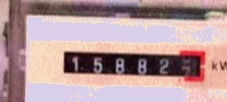1: (70, 54, 81, 73)
2: (158, 56, 170, 74)
5: (91, 55, 104, 73)
7: (179, 64, 191, 77)
8: (114, 56, 126, 73), (137, 57, 148, 74)
screen: (55, 39, 212, 87)
